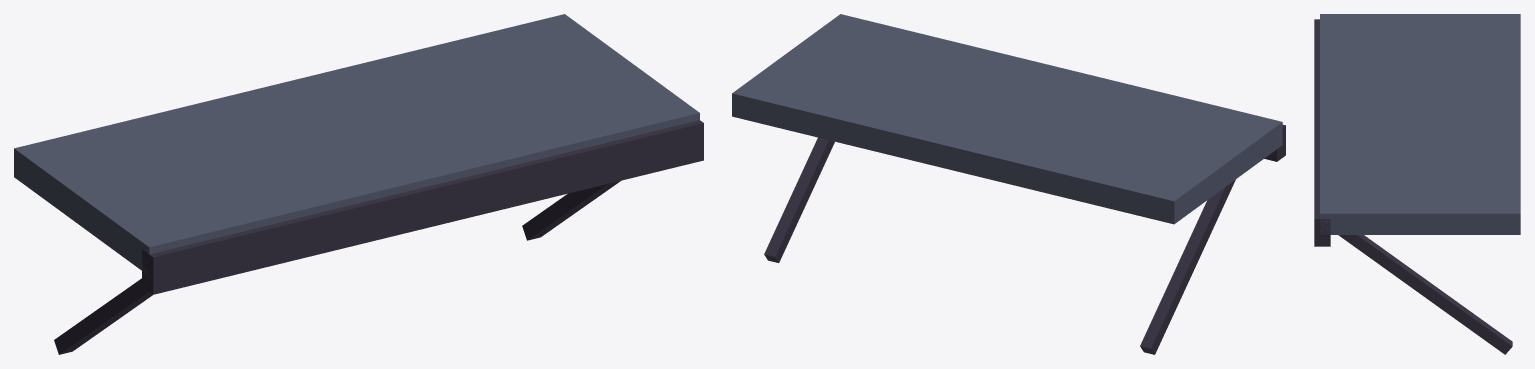
Rendered from SM_Entry_Canopy_2m.fbx.
3 views of the same model, side by side, from view 1: azimuth 30°, elevation 25°; view 2: azimuth 150°, elevation 25°; view 3: azimuth 270°, elevation 25° (orthographic). The views are drawn at different scales.
Visible parts, largest first — view 1: SM_Entry_Canopy_2m; view 2: SM_Entry_Canopy_2m; view 3: SM_Entry_Canopy_2m.
Boxes of the visible parts, x1,y1,x2,y2 form: SM_Entry_Canopy_2m: (14,14,703,354); SM_Entry_Canopy_2m: (732,14,1285,354); SM_Entry_Canopy_2m: (1314,14,1520,354).
Size of the model in its own units: 2 by 0.875 by 0.7196.
